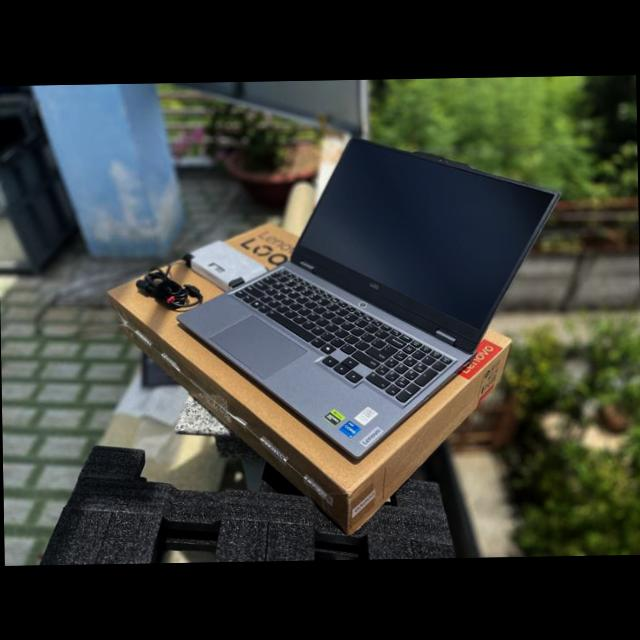laptop: (152, 130, 566, 458)
